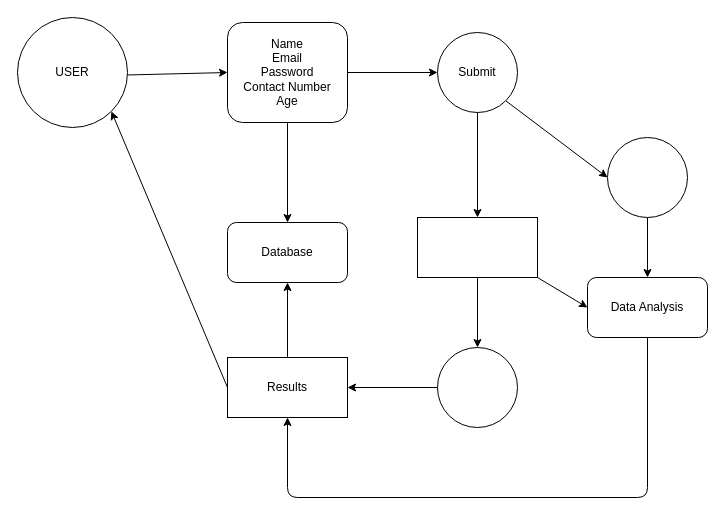
The diagram is 725 pixels wide and 523 high, and some of its shapes have lost their labels. The centre of each missing label's shape, as x and y in pixels:
Categories: (x=477, y=247)
Options: (x=477, y=387)
User's Profile: (x=647, y=177)
